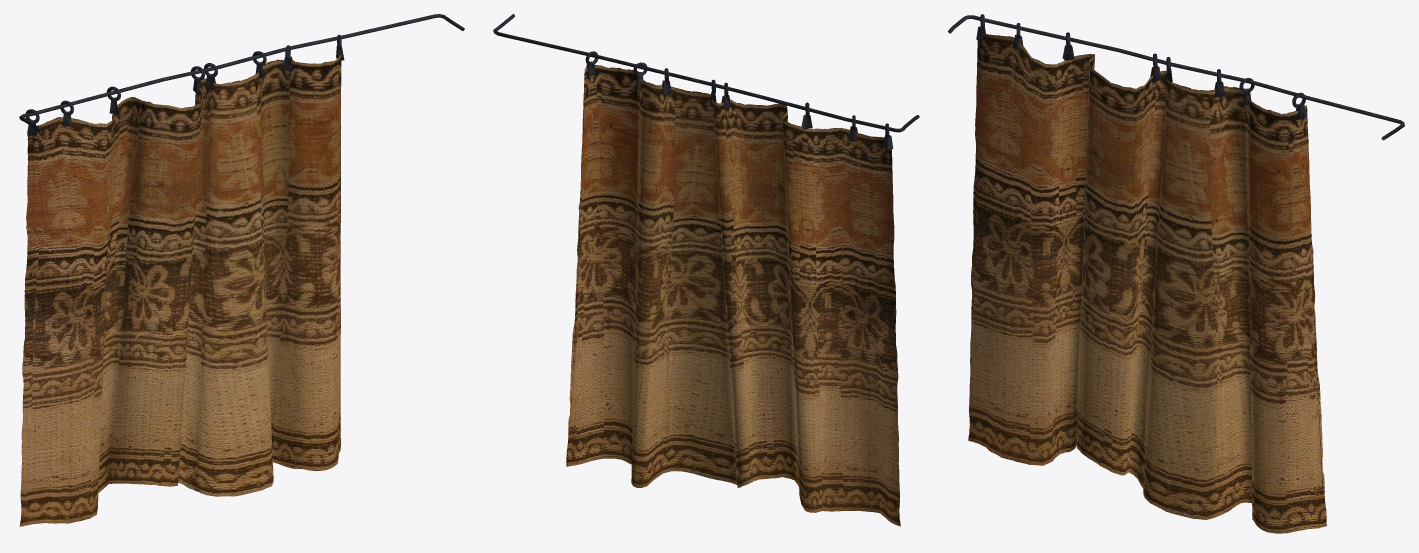
File: curtains_Small03.fbx
3 views of the same model, side by side, from view 1: azimuth 30°, elevation 25°; view 2: azimuth 150°, elevation 25°; view 3: azimuth 330°, elevation 25° (orthographic). The views are drawn at different scales.
Visible parts, largest first — view 1: Low, Hi, polySurface117; view 2: Hi, Low, polySurface117; view 3: Low, Hi, polySurface117.
Part boxes in pixels (<box>): Low: <box>19,58,341,526</box>; Hi: <box>20,54,341,526</box>; polySurface117: <box>19,14,464,135</box>; Hi: <box>566,65,884,516</box>; Low: <box>566,65,900,526</box>; polySurface117: <box>493,14,919,149</box>; Low: <box>968,33,1326,533</box>; Hi: <box>968,33,1319,532</box>; polySurface117: <box>948,14,1404,140</box>.
Bounding box in the file's own units: 104 × 100 × 16.14.
